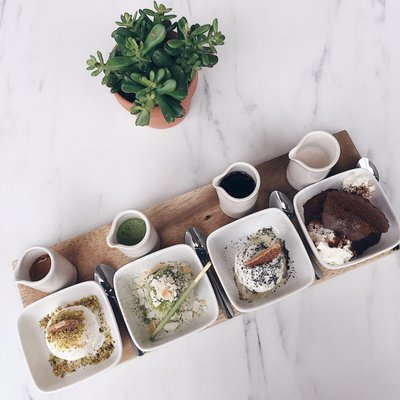pizza: (287, 130, 341, 191), (212, 161, 261, 219), (106, 209, 160, 260)
salad: (269, 190, 327, 281)
soup: (233, 228, 290, 301)
sushi: (16, 280, 123, 397), (206, 206, 317, 317), (112, 243, 219, 354), (294, 167, 400, 276)
